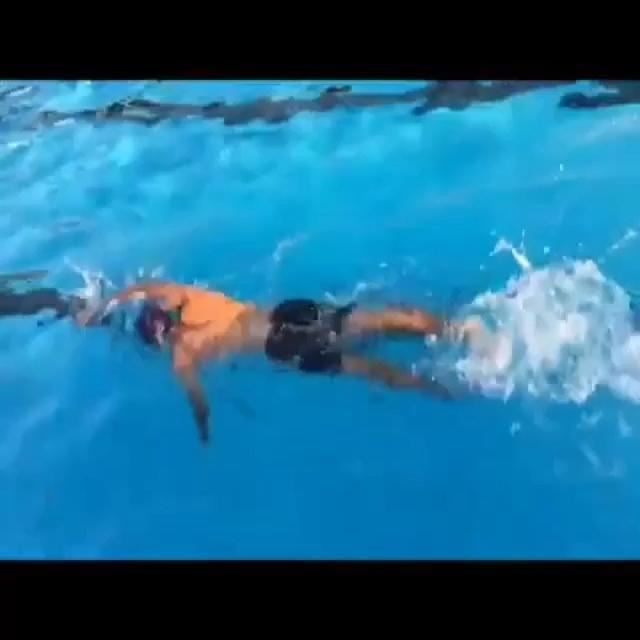Swimming: (70, 271, 490, 456)
